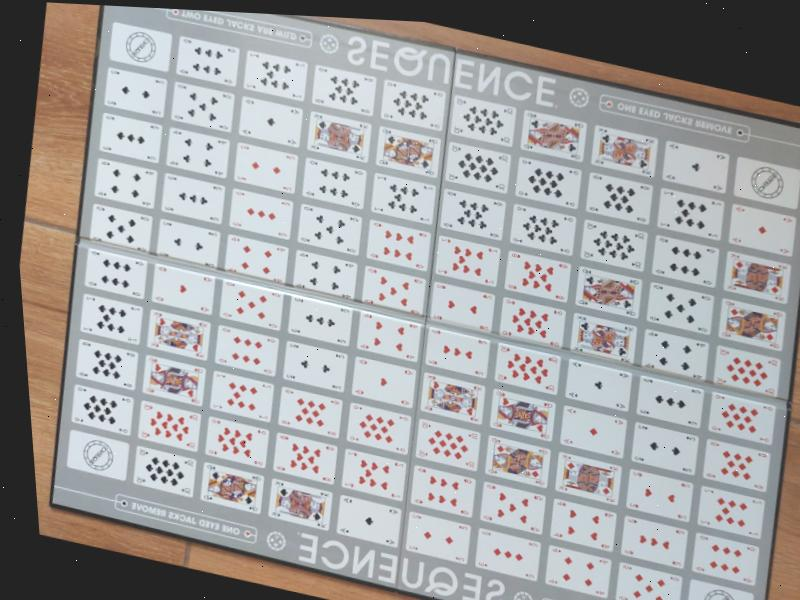Board: (44, 5, 800, 600)
